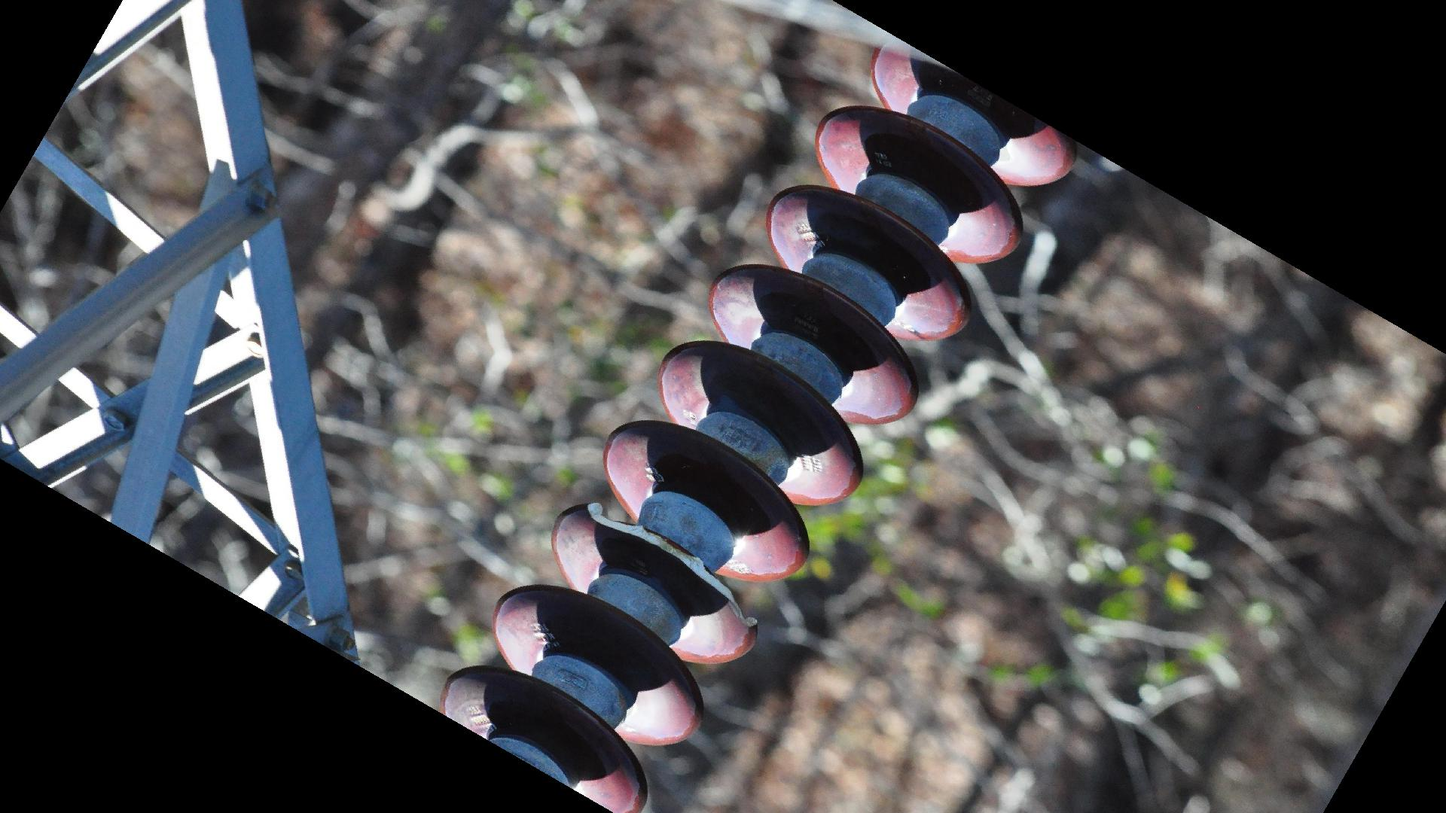insulator: (433, 34, 1084, 811)
insulator_breakage: (574, 499, 766, 635)
